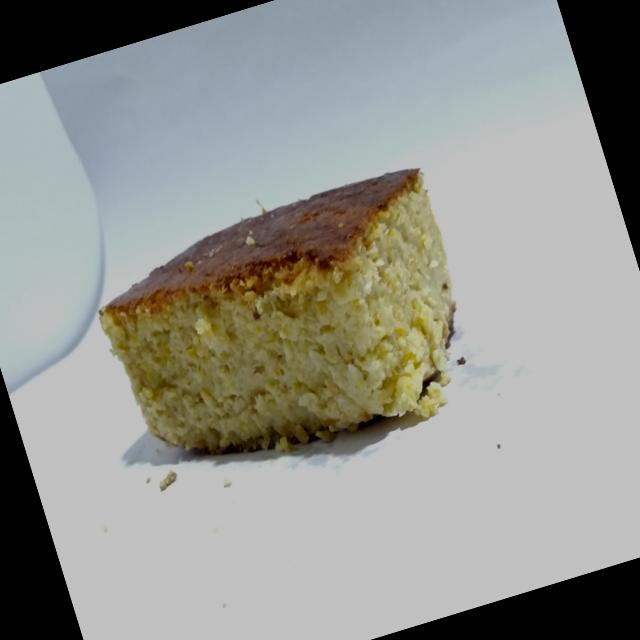Chipa_Guazu: (73, 148, 504, 514)
